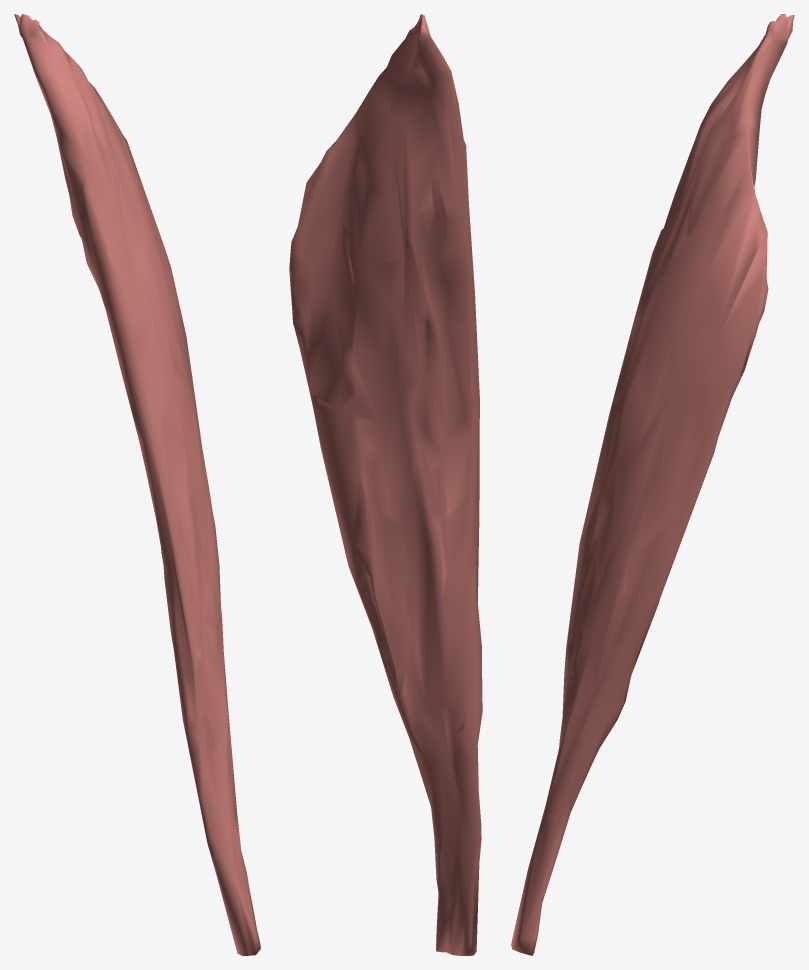
3 views of the same model, side by side, from view 1: azimuth 30°, elevation 25°; view 2: azimuth 150°, elevation 25°; view 3: azimuth 270°, elevation 25° (orthographic). The views are drawn at different scales.
Parts seen in each view (by area): view 1: ZA_0e74de56f3d8786d; view 2: ZA_0e74de56f3d8786d; view 3: ZA_0e74de56f3d8786d.
Boxes of the visible parts, left/top/right/bottom form: ZA_0e74de56f3d8786d: left=14, top=14, right=260, bottom=955; ZA_0e74de56f3d8786d: left=289, top=14, right=482, bottom=955; ZA_0e74de56f3d8786d: left=511, top=14, right=794, bottom=955.
Bounding box in the file's own units: 0.0291 × 0.1849 × 0.0537.
